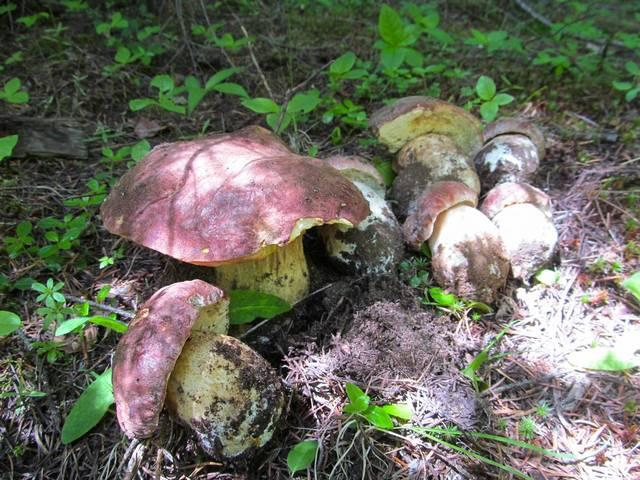Edible Mushroom: (98, 123, 370, 317), (358, 89, 562, 300), (106, 278, 291, 452)
